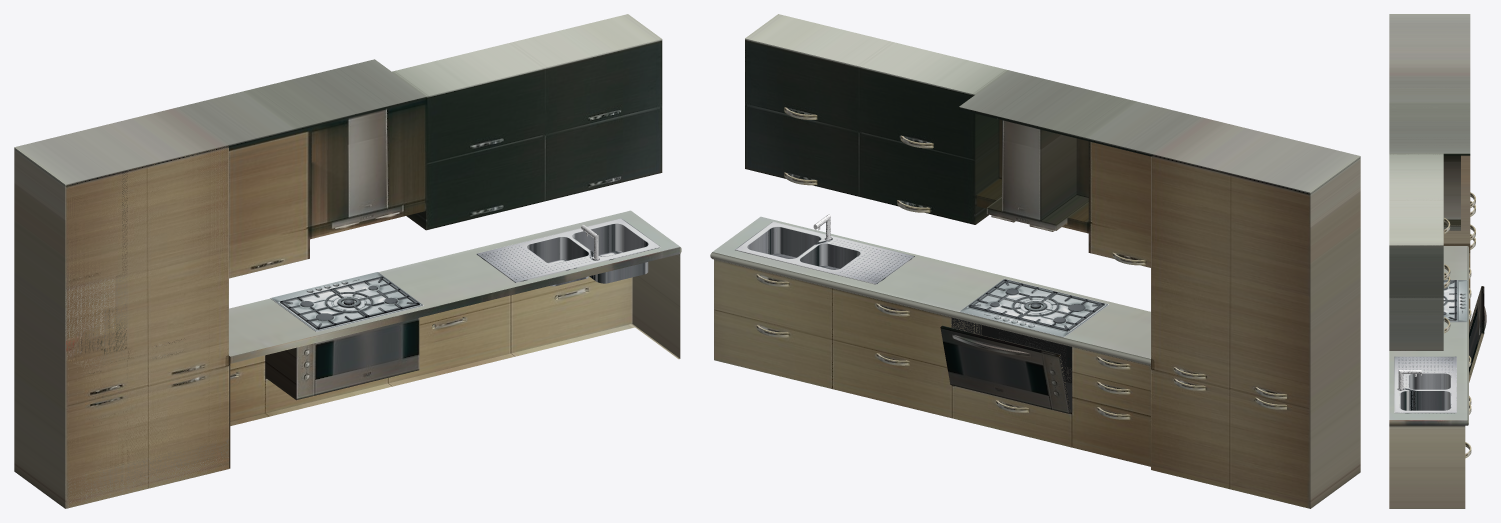
File: mutfakdolabı2.dae
3 renders of one model, left to right at view 1: azimuth 30°, elevation 25°; view 2: azimuth 150°, elevation 25°; view 3: azimuth 270°, elevation 25°, orthographic. The views are drawn at different scales.
Parts seen in each view (by area): view 1: Component_4 (×7), lavabo (×3), piano_cottura (×2); view 2: Component_4 (×6), lavabo (×3), piano_cottura (×2); view 3: Component_4 (×5), lavabo (×4), piano_cottura (×4).
Part boxes in pixels (<box>): Component_4 (×7): <box>14,14,681,508</box>; lavabo (×3): <box>476,218,661,286</box>; piano_cottura (×2): <box>270,272,423,332</box>; Component_4 (×6): <box>710,14,1360,508</box>; lavabo (×3): <box>734,221,914,284</box>; piano_cottura (×2): <box>959,278,1109,337</box>; Component_4 (×5): <box>1389,14,1484,508</box>; lavabo (×4): <box>1394,356,1456,413</box>; piano_cottura (×4): <box>1443,280,1467,322</box>.
Bounding box in the file's own units: 183 × 31.61 × 91.95.
7 materials, 4 textured.
